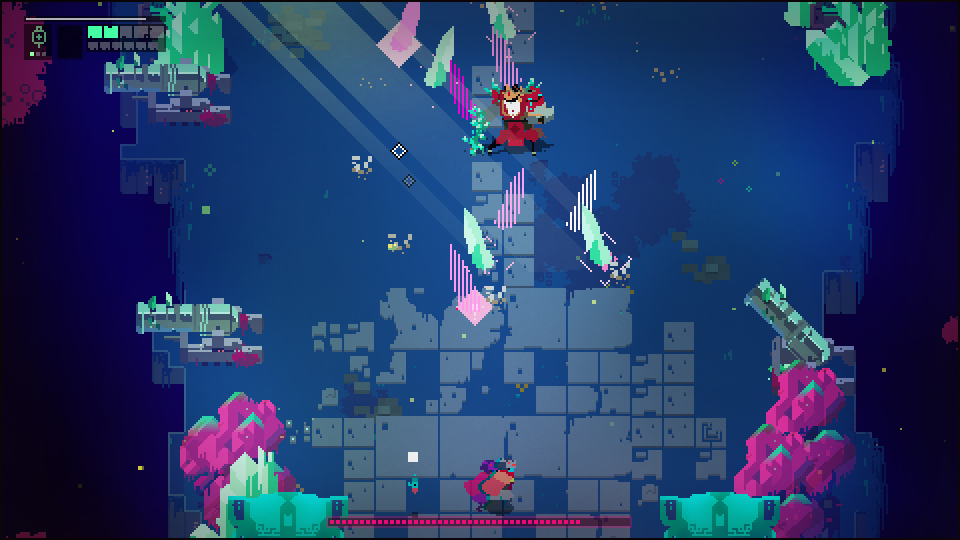hanged_crys: (445, 247, 490, 318), (563, 163, 602, 235), (578, 206, 619, 270), (424, 22, 456, 91), (464, 204, 497, 270), (495, 166, 527, 230), (485, 33, 522, 88), (394, 1, 419, 51)
hanged_man: (467, 72, 546, 155)
player: (480, 455, 518, 515)
